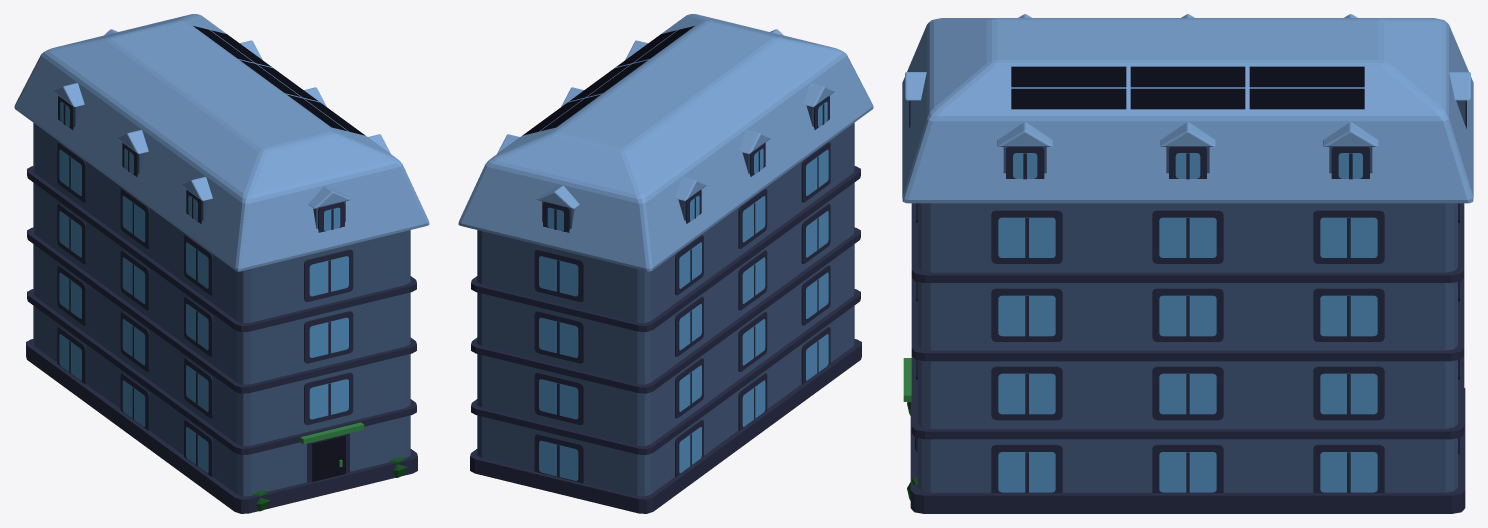
The model's file is house-1x2-4f-mansard-b-solar.glb.
3 views of the same model, side by side, from view 1: azimuth 30°, elevation 25°; view 2: azimuth 150°, elevation 25°; view 3: azimuth 270°, elevation 25° (orthographic). The views are drawn at different scales.
Parts seen in each view (by area): view 1: house-1x2-4f-mansard-b-solar; view 2: house-1x2-4f-mansard-b-solar; view 3: house-1x2-4f-mansard-b-solar.
Part boxes in pixels (box(x1,y1,x2,y2)): house-1x2-4f-mansard-b-solar: box(14, 14, 429, 513); house-1x2-4f-mansard-b-solar: box(458, 14, 873, 513); house-1x2-4f-mansard-b-solar: box(902, 14, 1473, 513).
Bounding box in the file's own units: 0.9876 × 1.6 × 1.99.
1 material, 1 textured.
